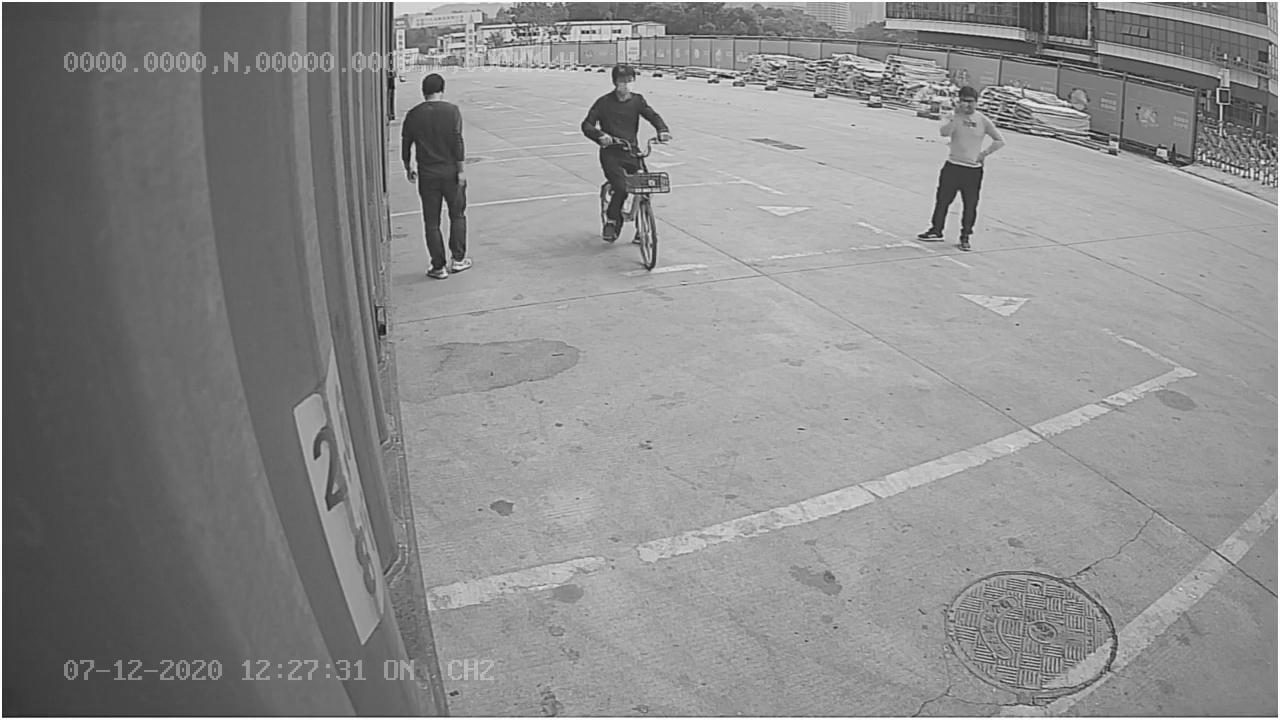person: (399, 71, 479, 286)
